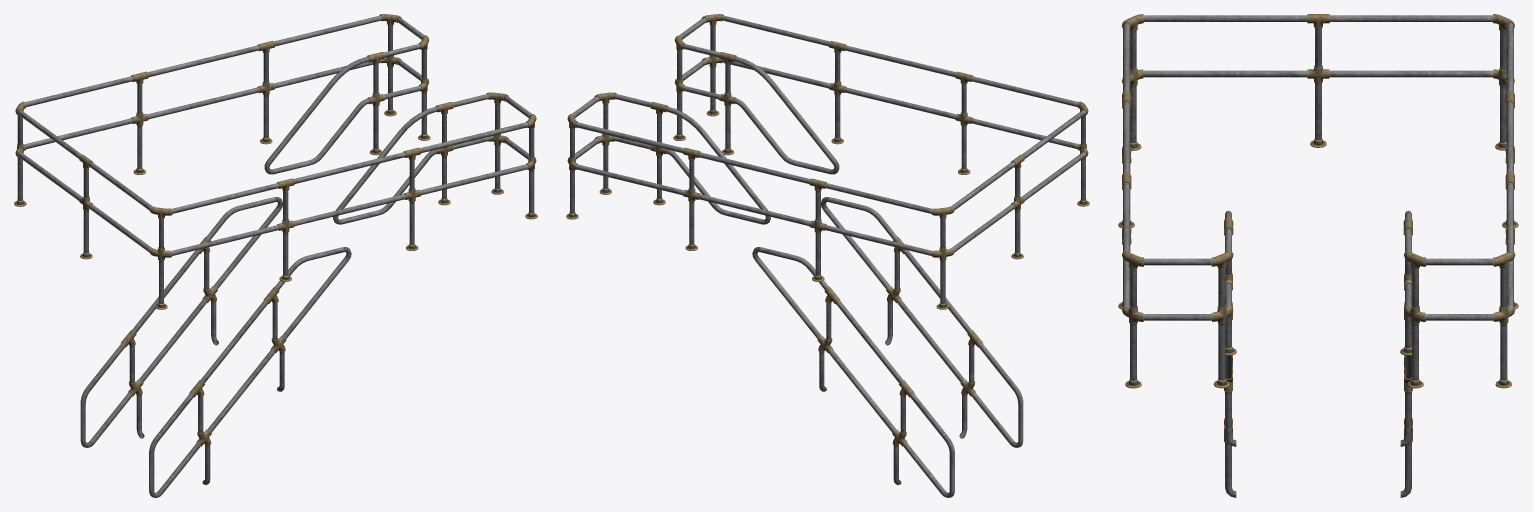
Rendered from railing_comm_room_pplant.dae.
3 views of the same model, side by side, from view 1: azimuth 30°, elevation 25°; view 2: azimuth 150°, elevation 25°; view 3: azimuth 270°, elevation 25° (orthographic). The views are drawn at different scales.
Parts seen in each view (by area): view 1: 01_02_comm_room_railing; view 2: 01_02_comm_room_railing; view 3: 01_02_comm_room_railing.
Boxes of the visible parts, x1,y1,x2,y2 form: 01_02_comm_room_railing: (14,14,537,497); 01_02_comm_room_railing: (566,14,1089,497); 01_02_comm_room_railing: (1118,14,1518,497).
Bounding box in the file's own units: 6.14 × 4.92 × 4.17.
